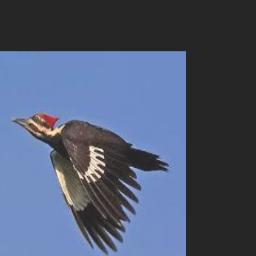Woodpecker: (12, 112, 170, 254)
